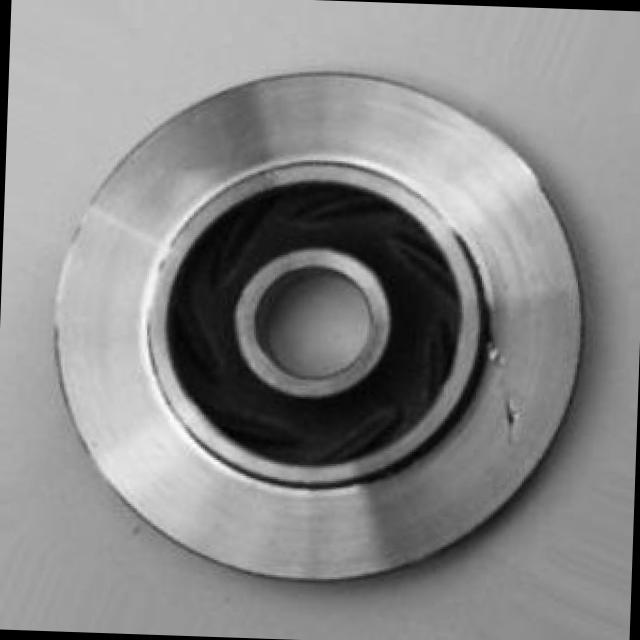Defect: (494, 396, 530, 438)
